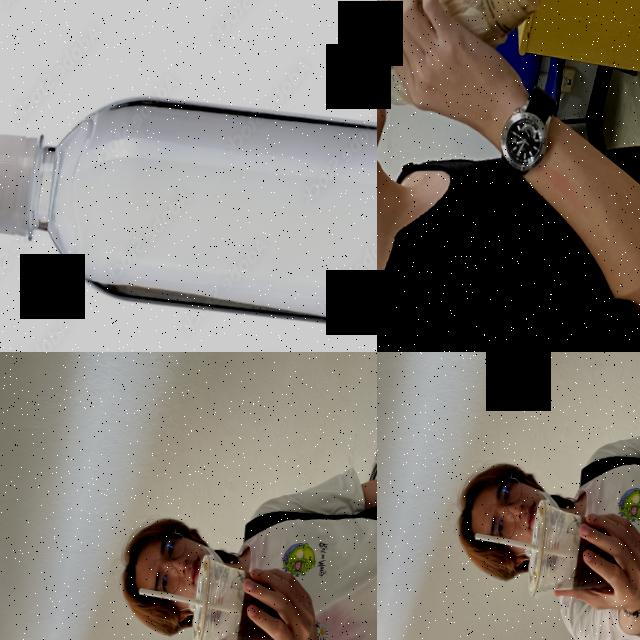bottle: (0, 68, 377, 349)
cup: (377, 0, 551, 123), (522, 496, 624, 606), (185, 550, 287, 640)
